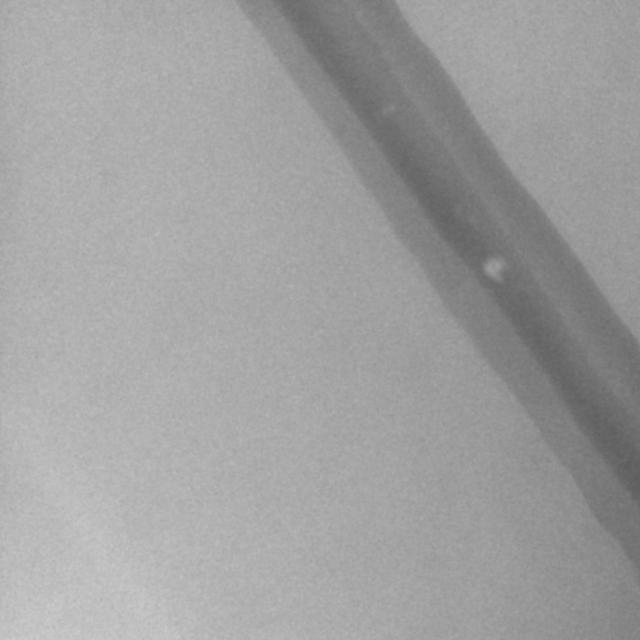slag inclusion: (481, 254, 505, 283)
